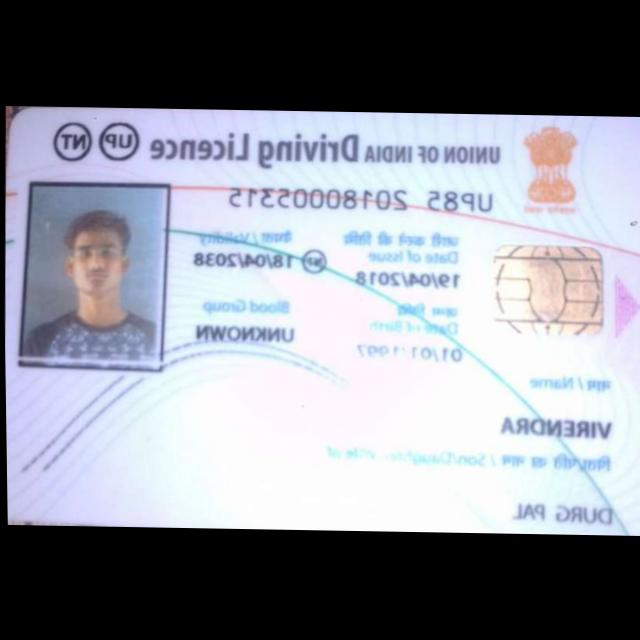driving_licence: (1, 104, 640, 533)
